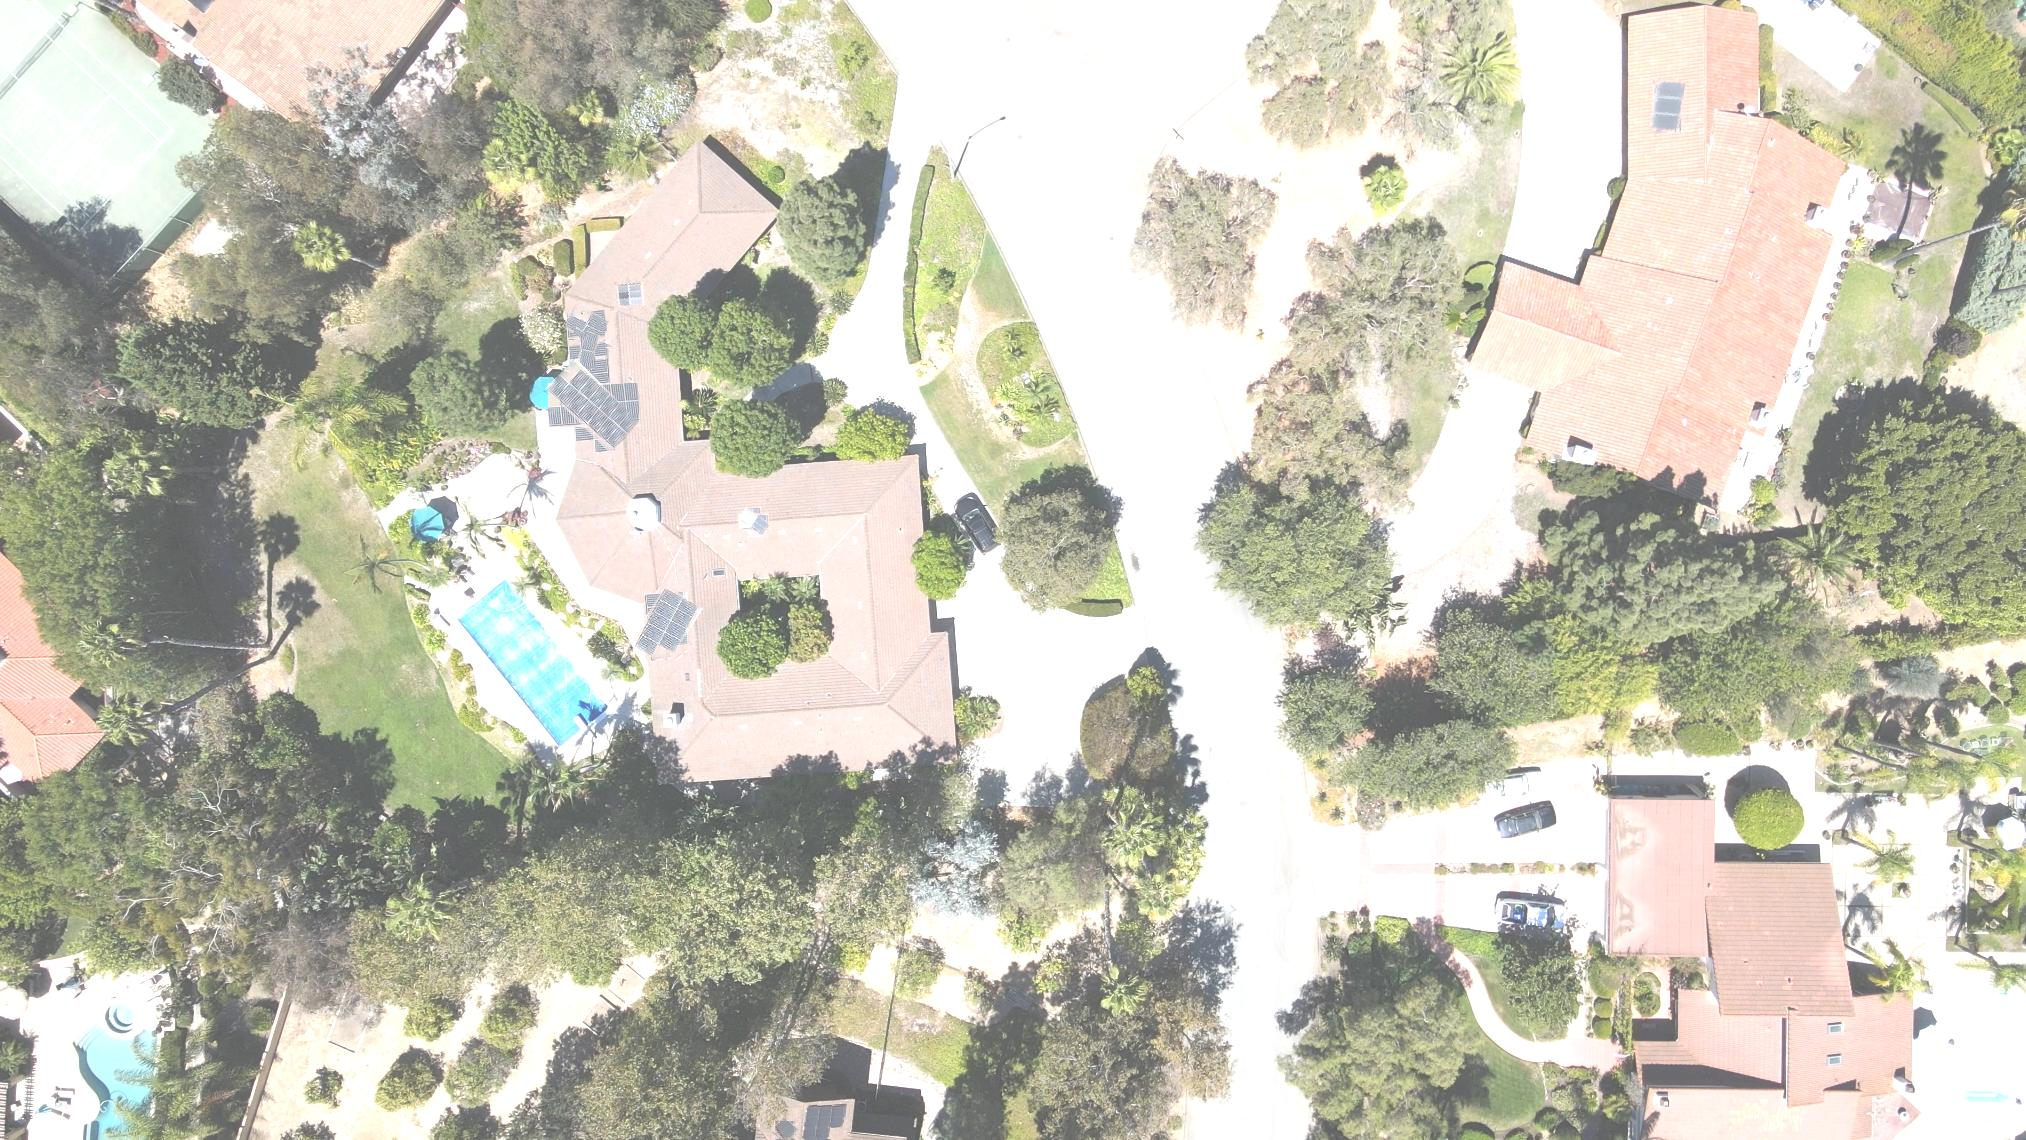solar-panels: (547, 369, 639, 448), (635, 587, 699, 657), (1648, 81, 1688, 131), (801, 1105, 845, 1140), (562, 313, 608, 345), (737, 509, 769, 536), (579, 331, 598, 370), (618, 283, 646, 306), (775, 1116, 797, 1140)
